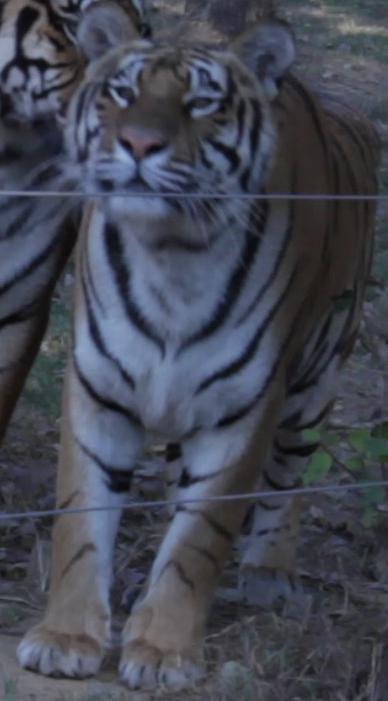tiger: (12, 2, 377, 687)
